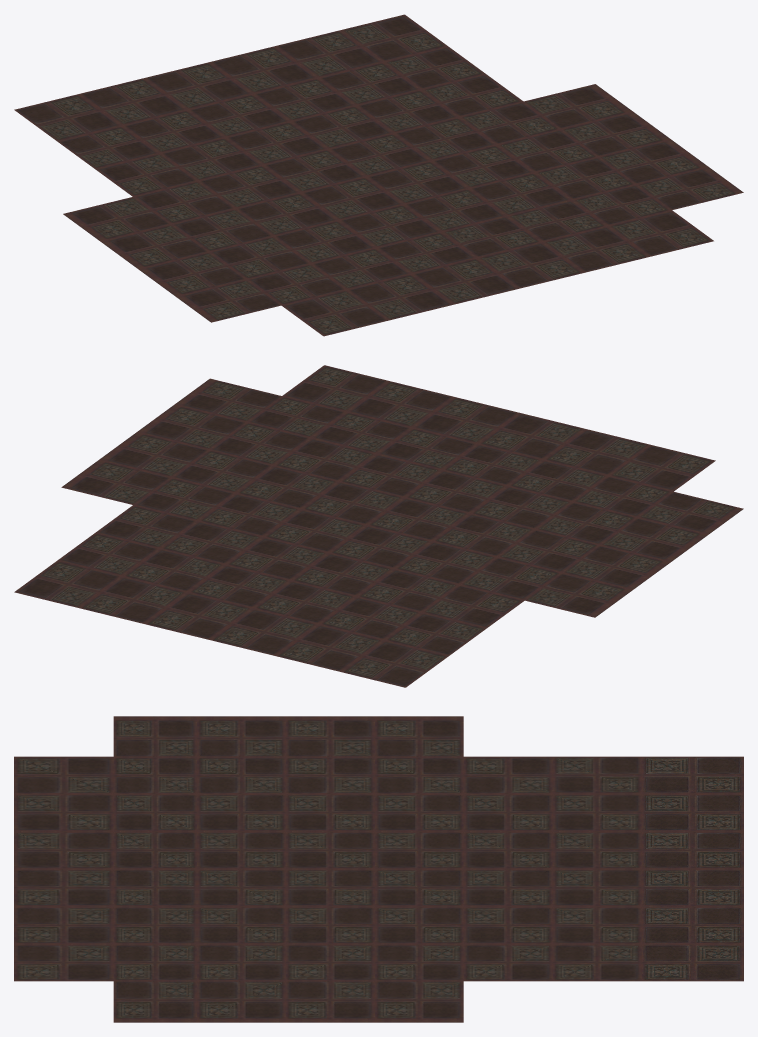
Rendered from Roof.fbx.
3 views of the same model, one above another, from view 1: azimuth 30°, elevation 25°; view 2: azimuth 150°, elevation 25°; view 3: azimuth 270°, elevation 25° (orthographic). The views are drawn at different scales.
Parts seen in each view (by area): view 1: ceng_ge; view 2: ceng_ge; view 3: ceng_ge.
Boxes of the visible parts, bbox=[...] form: ceng_ge: bbox=[14, 14, 743, 336]; ceng_ge: bbox=[14, 365, 743, 687]; ceng_ge: bbox=[14, 716, 743, 1022].
Size of the model in its own units: 2767 by 0.000454 by 2785.
Materials: 1 (1 with a texture image).
